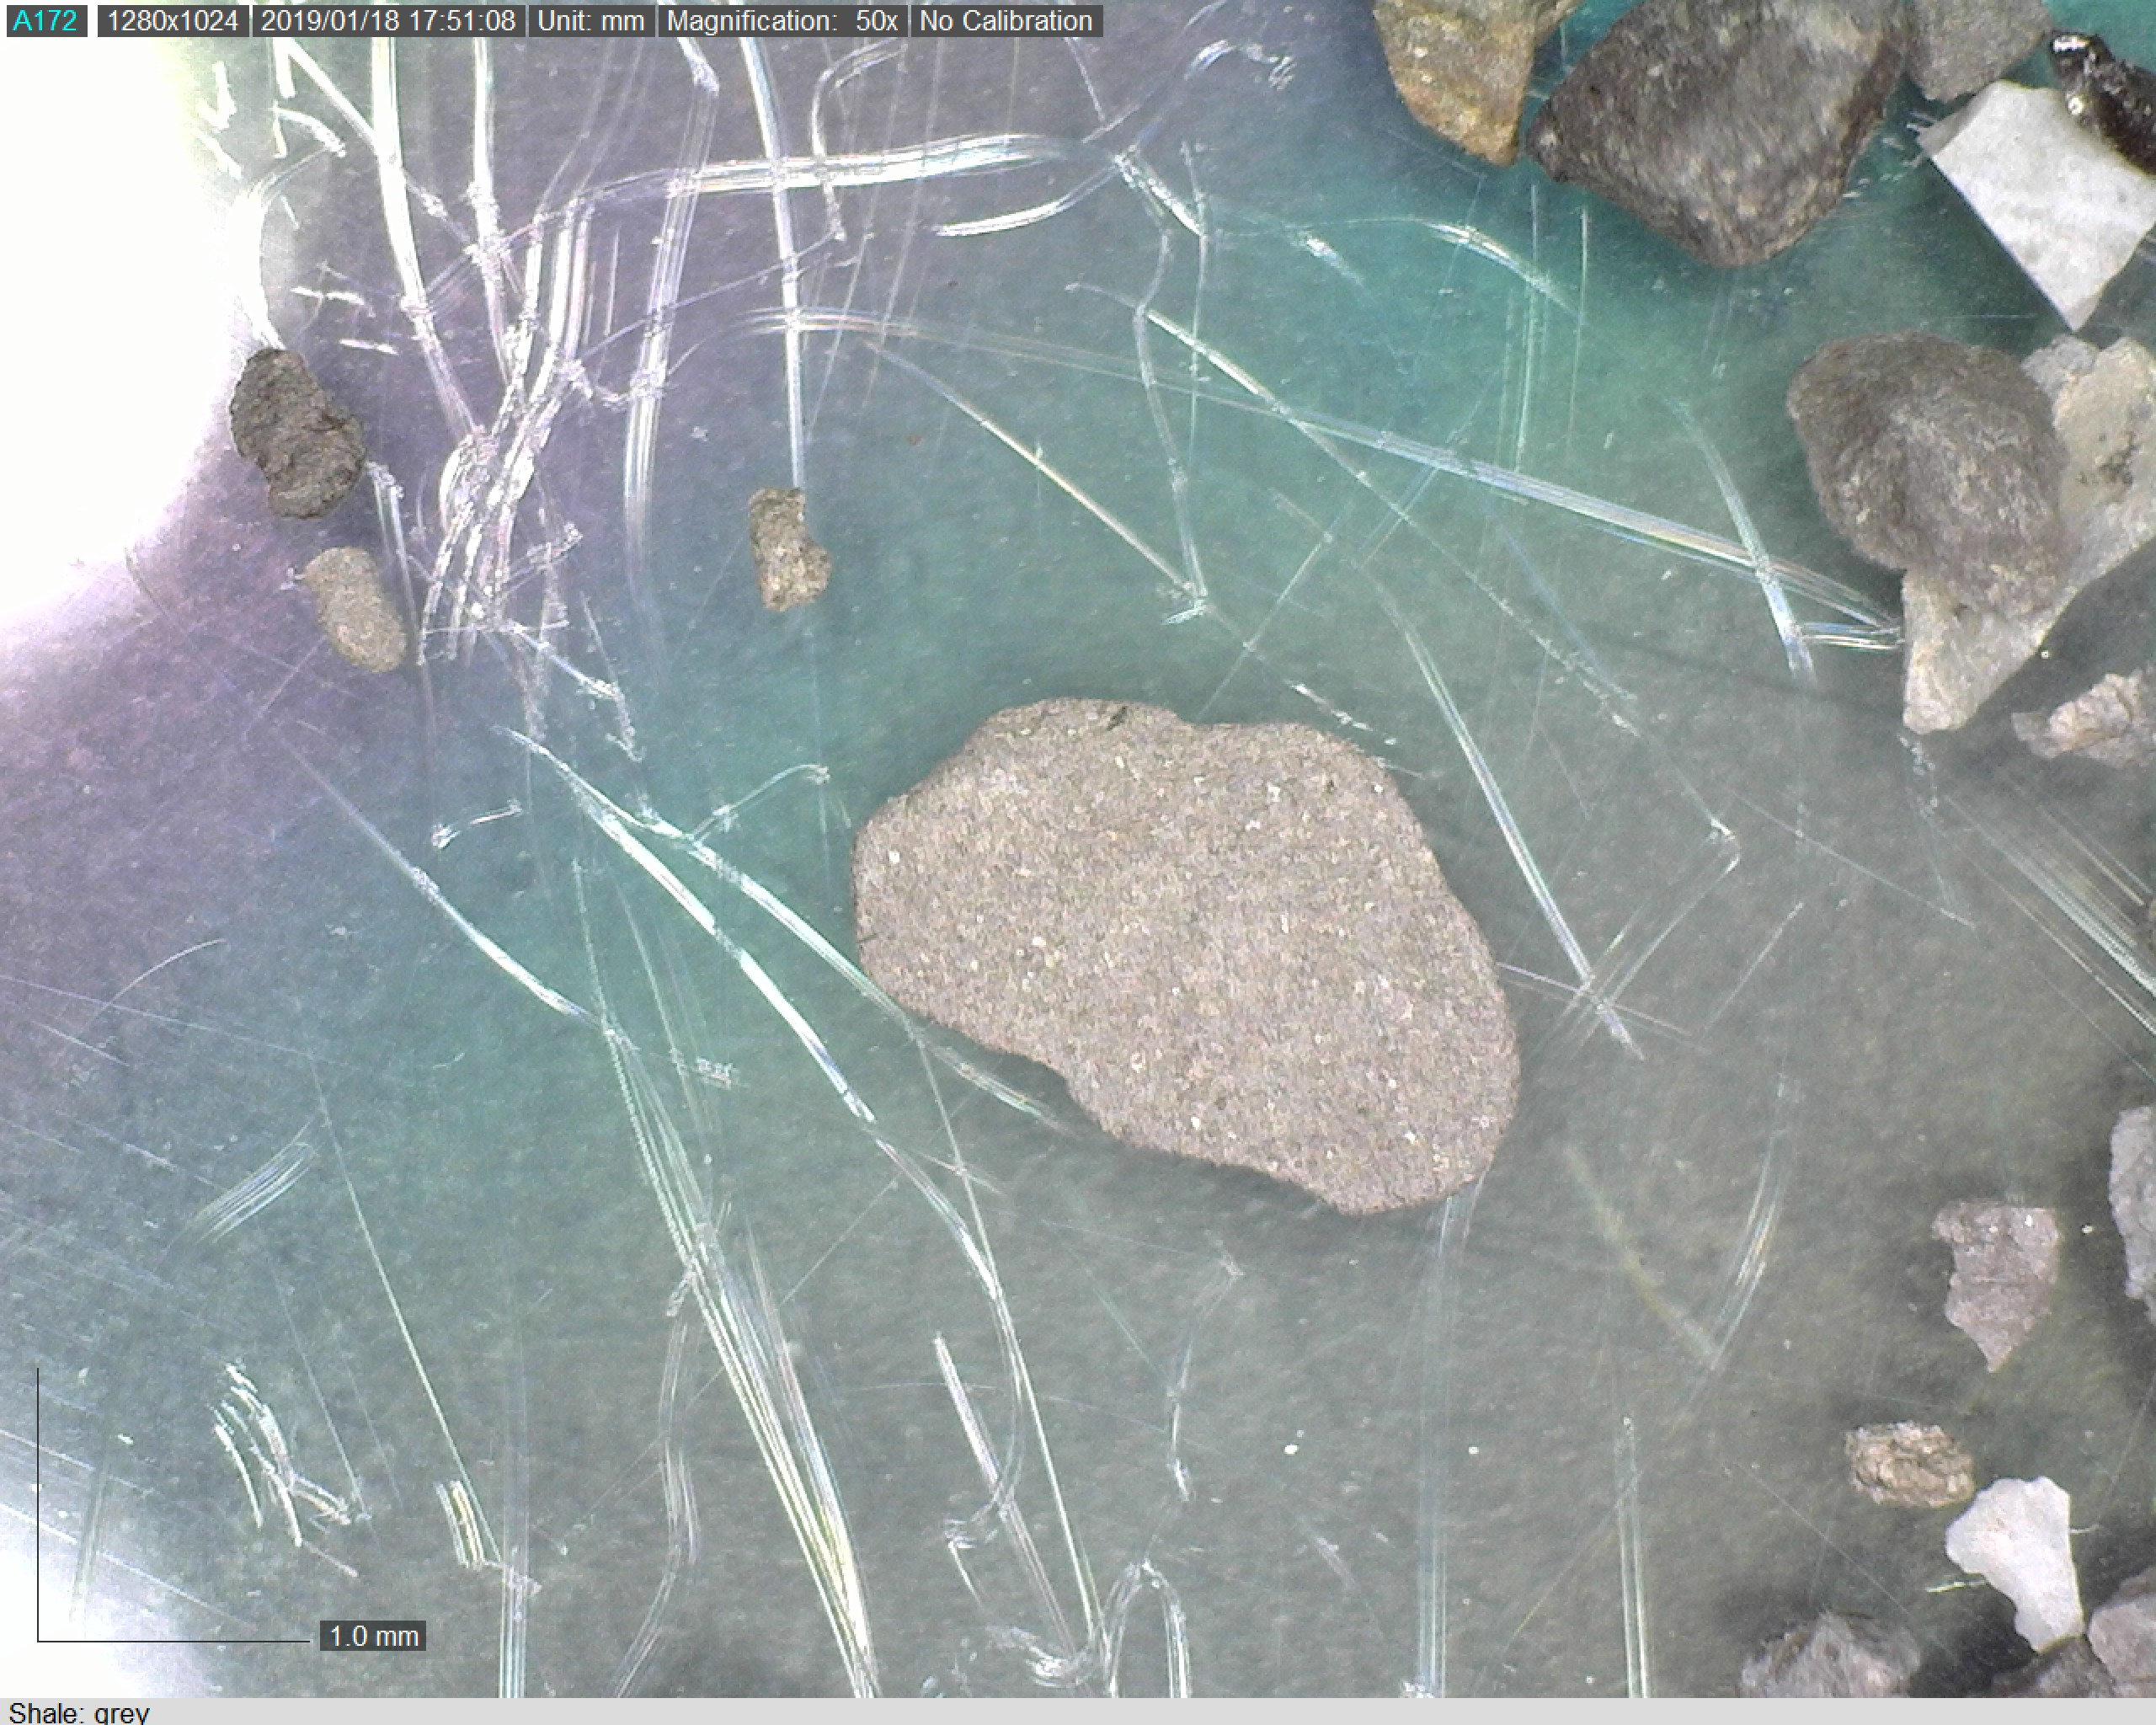Shale: (825, 686, 1549, 1225)
